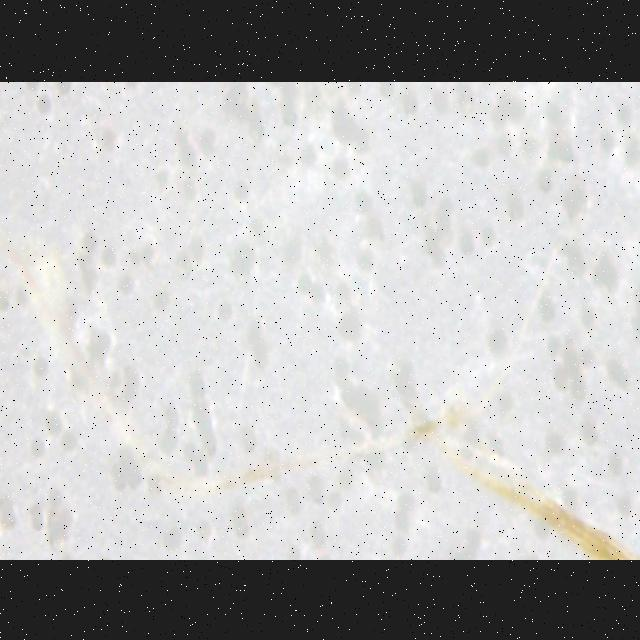Fibre: (6, 260, 640, 560)
